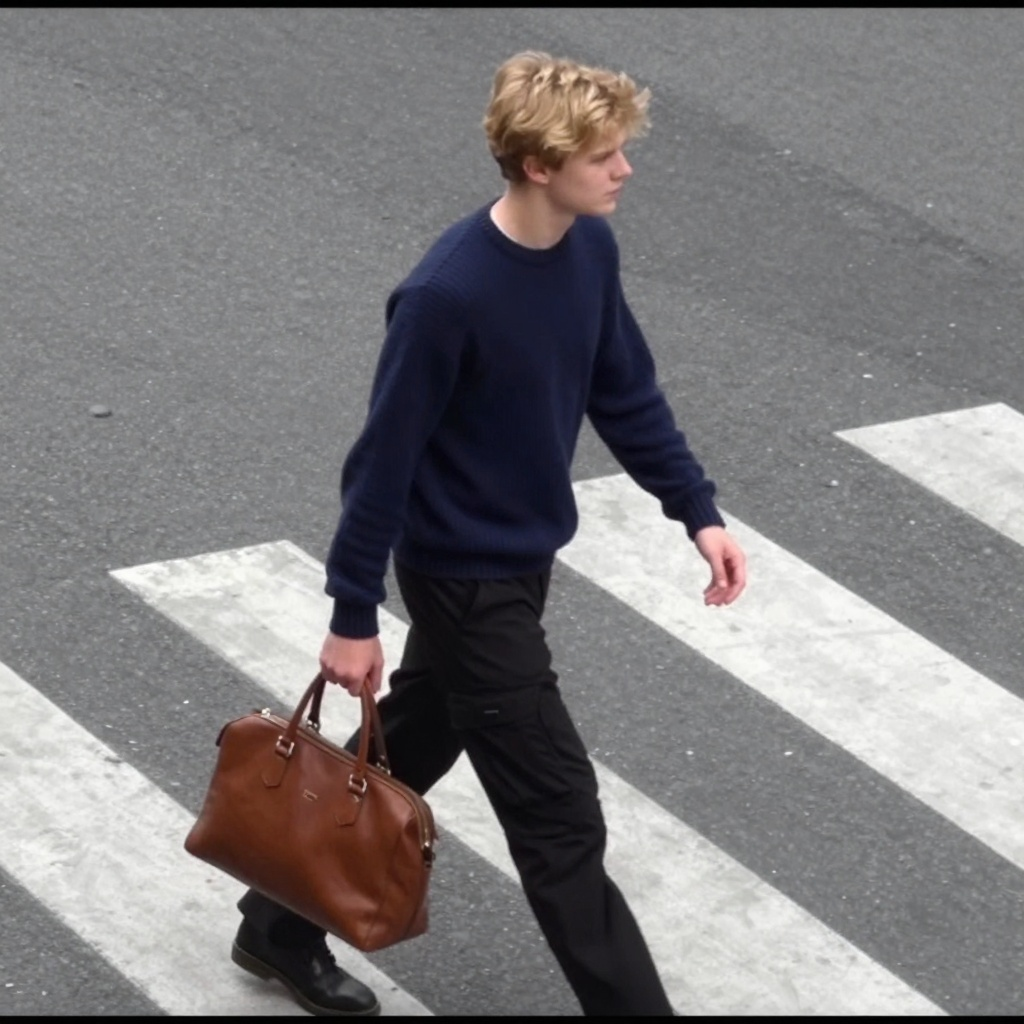Normal activity: (316, 49, 749, 998)
